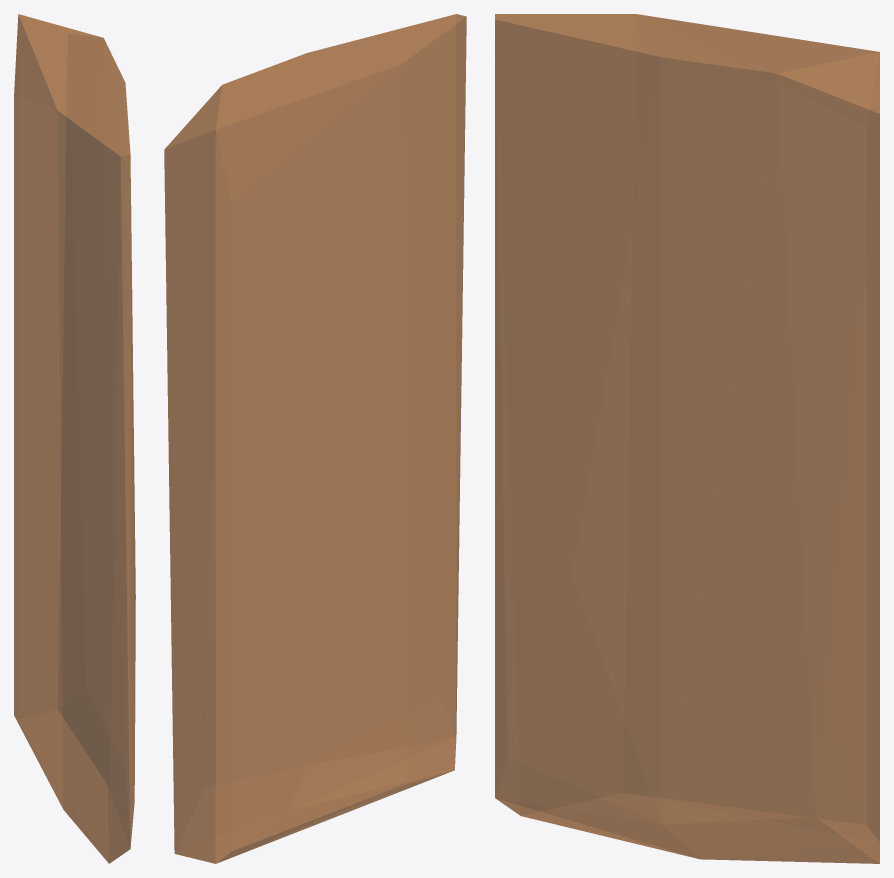
3 renders of one model, left to right at view 1: azimuth 30°, elevation 25°; view 2: azimuth 150°, elevation 25°; view 3: azimuth 270°, elevation 25°, orthographic. The views are drawn at different scales.
Parts seen in each view (by area): view 1: Shape_IndexedFaceSet.023_Shape_IndexedFaceSet.621; view 2: Shape_IndexedFaceSet.023_Shape_IndexedFaceSet.621; view 3: Shape_IndexedFaceSet.023_Shape_IndexedFaceSet.621.
Boxes of the visible parts, bbox=[...] form: Shape_IndexedFaceSet.023_Shape_IndexedFaceSet.621: bbox=[14, 14, 135, 863]; Shape_IndexedFaceSet.023_Shape_IndexedFaceSet.621: bbox=[164, 14, 466, 863]; Shape_IndexedFaceSet.023_Shape_IndexedFaceSet.621: bbox=[495, 14, 879, 863].
Size of the model in its own units: 0.0224 by 0.1286 by 0.0559.
